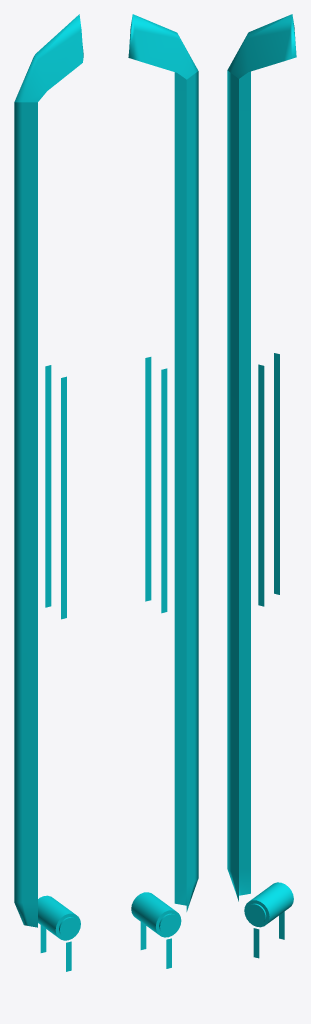
Rendered from FuturisticSwordGlowParts.fbx.
3 renders of one model, left to right at view 1: azimuth 30°, elevation 25°; view 2: azimuth 210°, elevation 25°; view 3: azimuth 330°, elevation 25°, orthographic.
Parts seen in each view (by area): view 1: pasted__pasted__pCube5, pasted__pCylinder1 (×2), polySurface5; view 2: pasted__pasted__pCube5, pasted__pCylinder1 (×2), polySurface5; view 3: pasted__pasted__pCube5, pasted__pCylinder1 (×2), polySurface5.
Boxes of the visible parts, bbox=[...] form: pasted__pasted__pCube5: bbox=[14, 14, 83, 927]; pasted__pCylinder1 (×2): bbox=[38, 895, 80, 940]; polySurface5: bbox=[40, 925, 71, 971]; pasted__pasted__pCube5: bbox=[128, 14, 198, 911]; pasted__pCylinder1 (×2): bbox=[131, 892, 181, 937]; polySurface5: bbox=[140, 922, 171, 968]; pasted__pasted__pCube5: bbox=[227, 14, 296, 901]; pasted__pCylinder1 (×2): bbox=[244, 882, 293, 927]; polySurface5: bbox=[253, 911, 284, 958].
Bounding box in the file's own units: 5 × 67.93 × 3.26.
